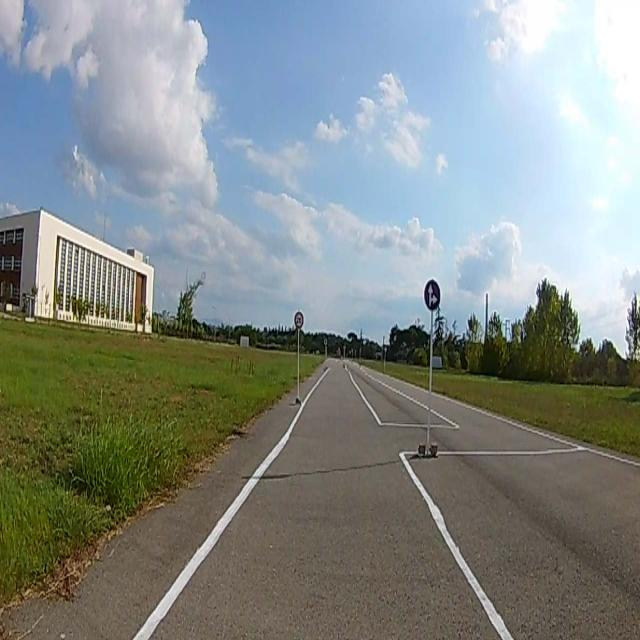ilerisag: (423, 282, 441, 311)
